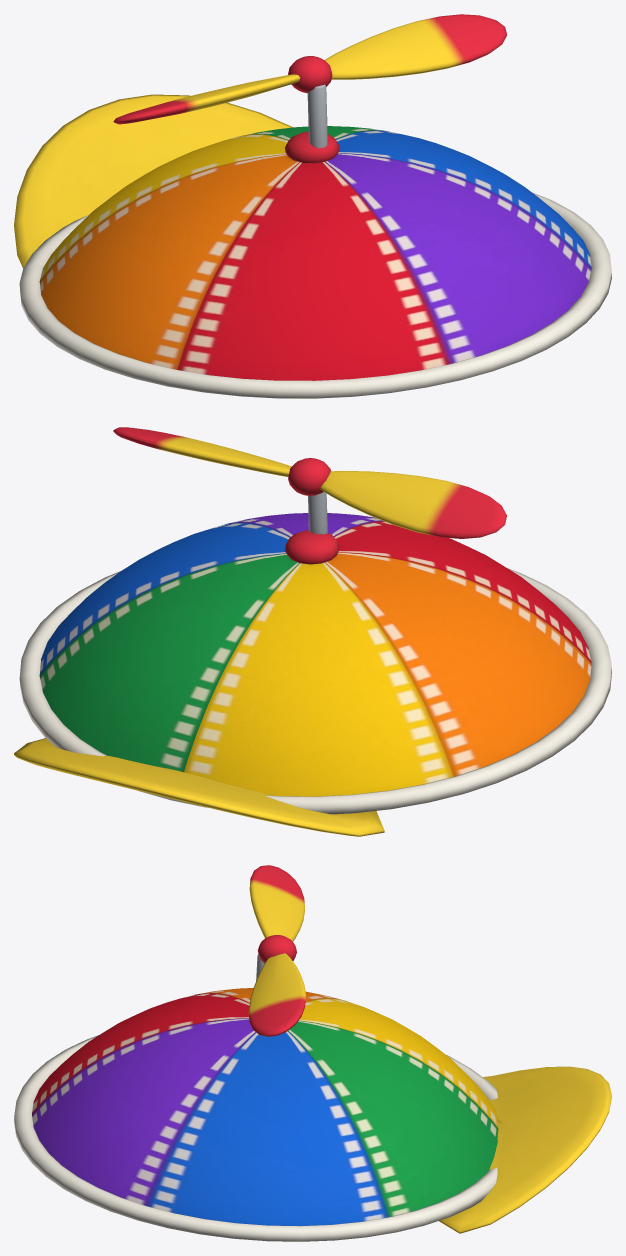
Rendered from propeller.glb.
3 renders of one model, top to bottom at view 1: azimuth 30°, elevation 25°; view 2: azimuth 150°, elevation 25°; view 3: azimuth 270°, elevation 25°, orthographic. The views are drawn at different scales.
Visible parts, largest first — view 1: Hat, spin; view 2: Hat, spin; view 3: Hat, spin.
Boxes of the visible parts, box(x1,y1,x2,y2) form: Hat: box(14, 84, 611, 398); spin: box(113, 14, 506, 124); Hat: box(14, 492, 611, 836); spin: box(113, 427, 506, 538); Hat: box(14, 954, 611, 1241); spin: box(248, 865, 305, 1036).
Size of the model in its own units: 0.557 by 0.261 by 0.6383.
1 material, 1 textured.
